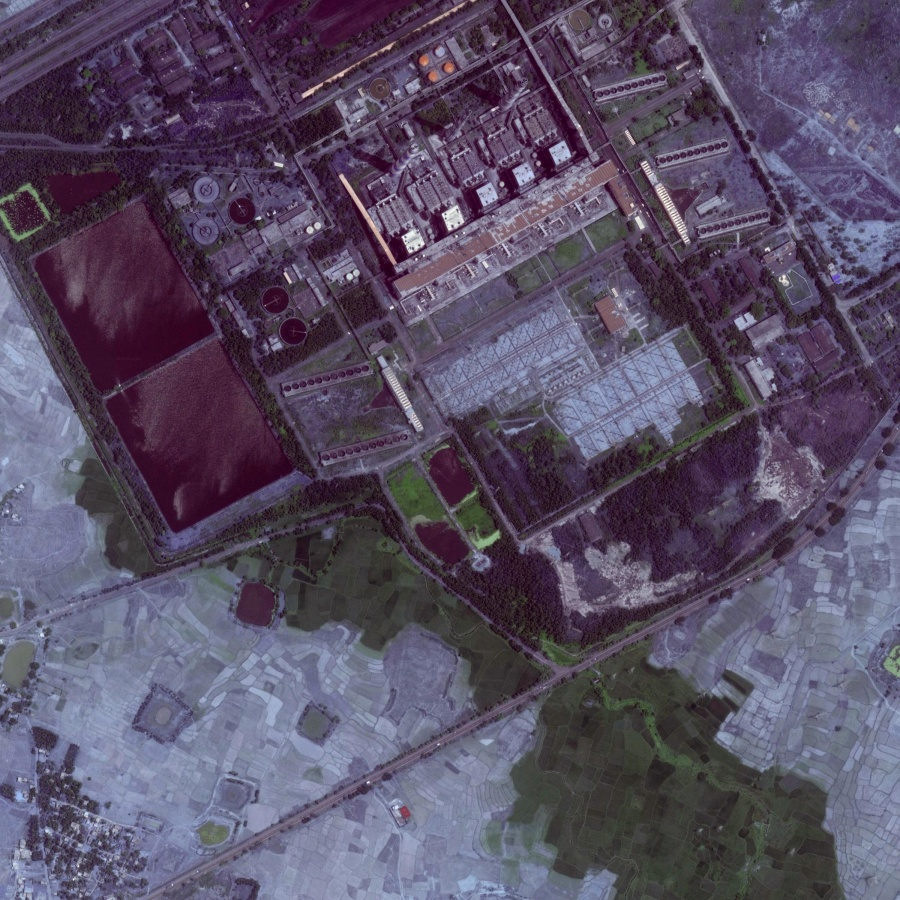PowerPlant: (5, 174, 368, 578)
